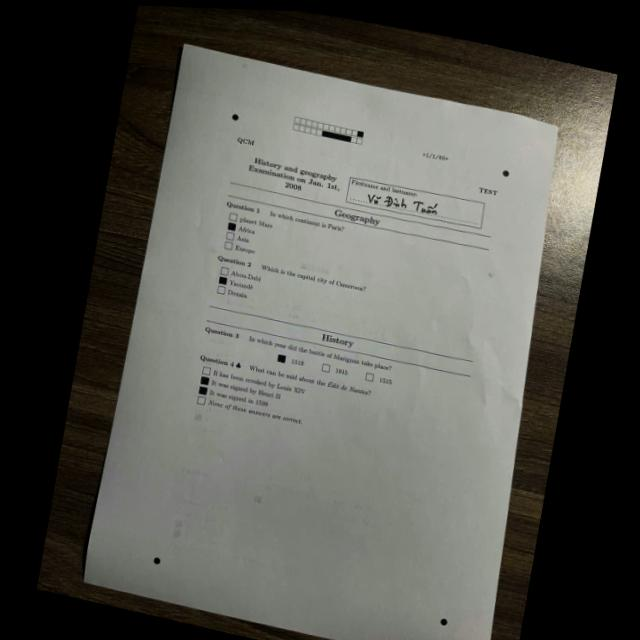Markers: (440, 618, 448, 627), (153, 557, 161, 566), (231, 113, 239, 121), (503, 170, 510, 177)
